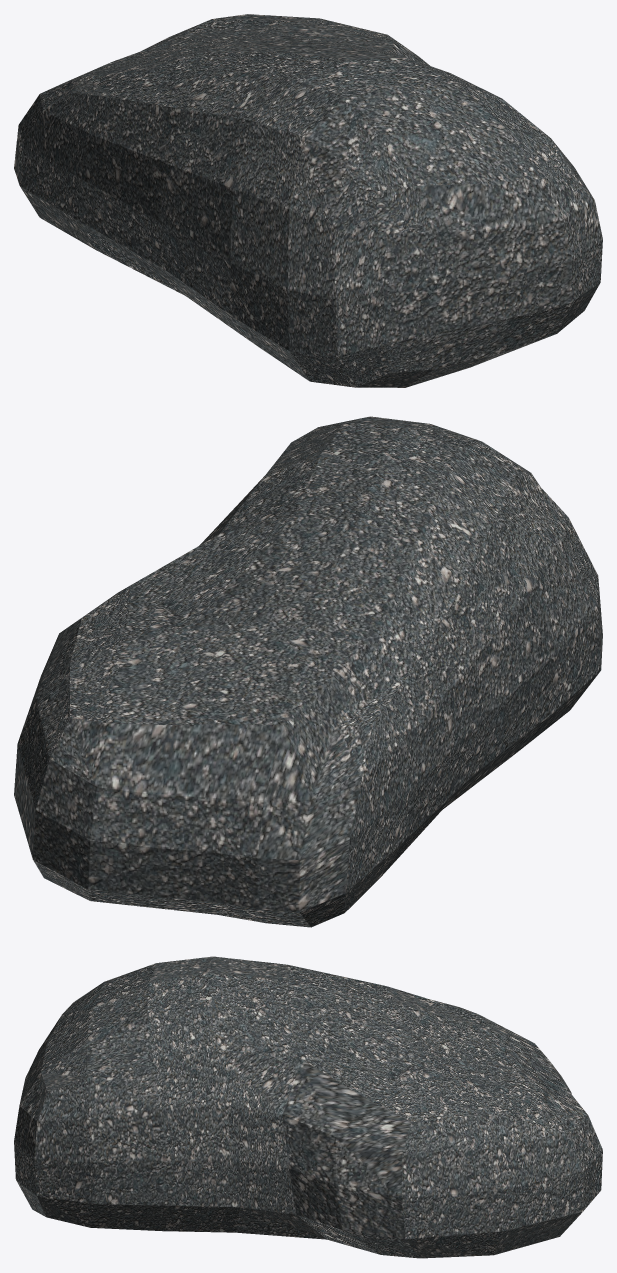
Rendered from rock2.glb.
The picture shows the model from 3 angles, top to bottom: view 1: azimuth 30°, elevation 25°; view 2: azimuth 150°, elevation 25°; view 3: azimuth 270°, elevation 25°; orthographic projection. The views are drawn at different scales.
Parts seen in each view (by area): view 1: Cube; view 2: Cube; view 3: Cube.
Part boxes in pixels (x1=…): Cube: x1=14, y1=14, x2=602, y2=387; Cube: x1=14, y1=416, x2=602, y2=927; Cube: x1=14, y1=956, x2=602, y2=1258.
Bounding box in the file's own units: 6.43 × 4.78 × 10.89.
1 material, 1 textured.
